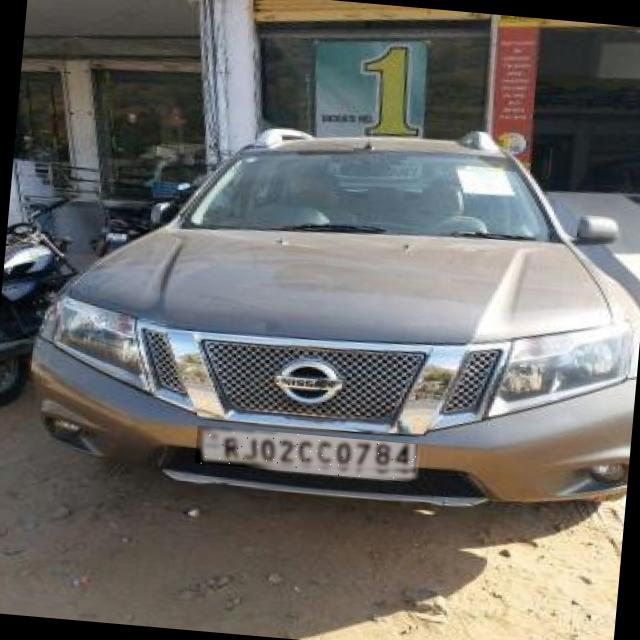Plate: (196, 426, 419, 483)
